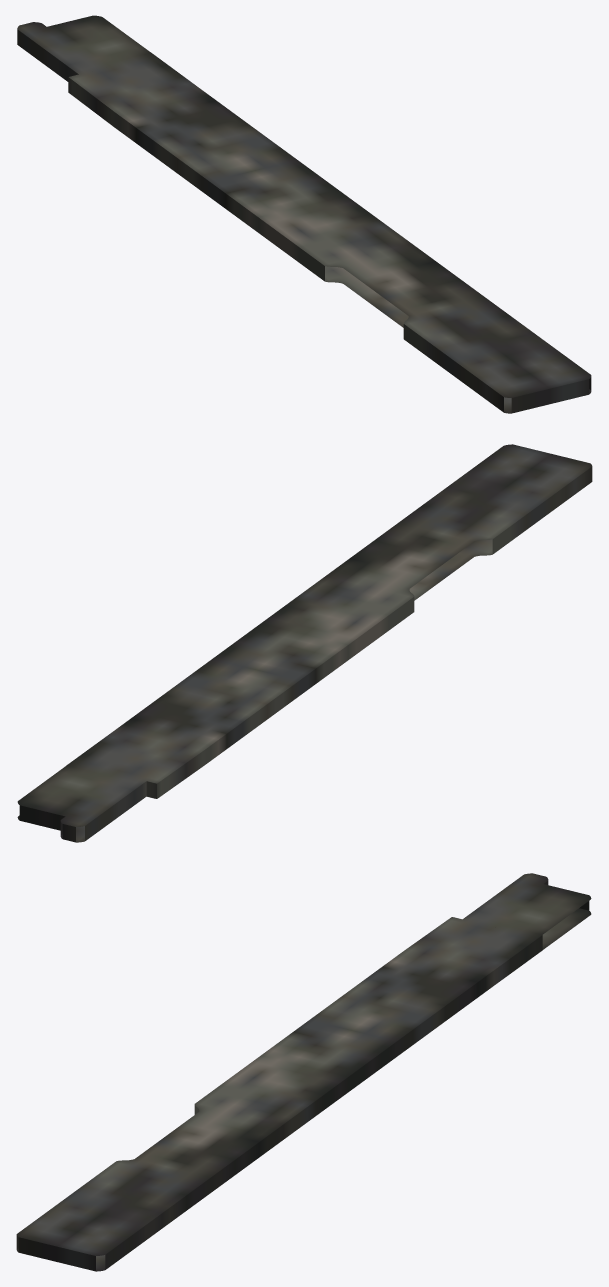
The model's file is SM_EC_Fence_Part_44.fbx.
The picture shows the model from 3 angles, top to bottom: view 1: azimuth 30°, elevation 25°; view 2: azimuth 150°, elevation 25°; view 3: azimuth 330°, elevation 25°; orthographic projection.
Parts seen in each view (by area): view 1: SM_EC_Fence_Part_44; view 2: SM_EC_Fence_Part_44; view 3: SM_EC_Fence_Part_44.
Boxes of the visible parts, bbox=[...] form: SM_EC_Fence_Part_44: bbox=[17, 15, 591, 413]; SM_EC_Fence_Part_44: bbox=[17, 444, 592, 842]; SM_EC_Fence_Part_44: bbox=[16, 873, 591, 1271].
Bounding box in the file's own units: 0.1079 × 1.07 × 0.0181.
